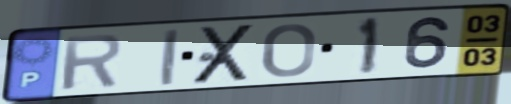1: (352, 15, 382, 77)
6: (403, 14, 455, 71)
I: (159, 26, 182, 88)
O: (259, 21, 318, 80)
R: (59, 32, 125, 93)
X: (189, 21, 261, 87)
